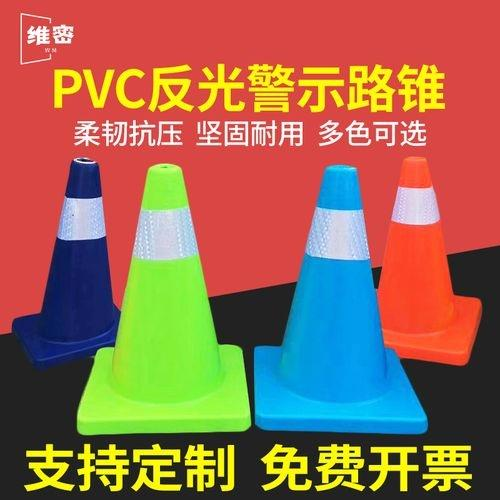cone_barrel: (82, 169, 243, 427), (261, 171, 419, 415), (22, 163, 121, 359), (371, 162, 462, 348)
